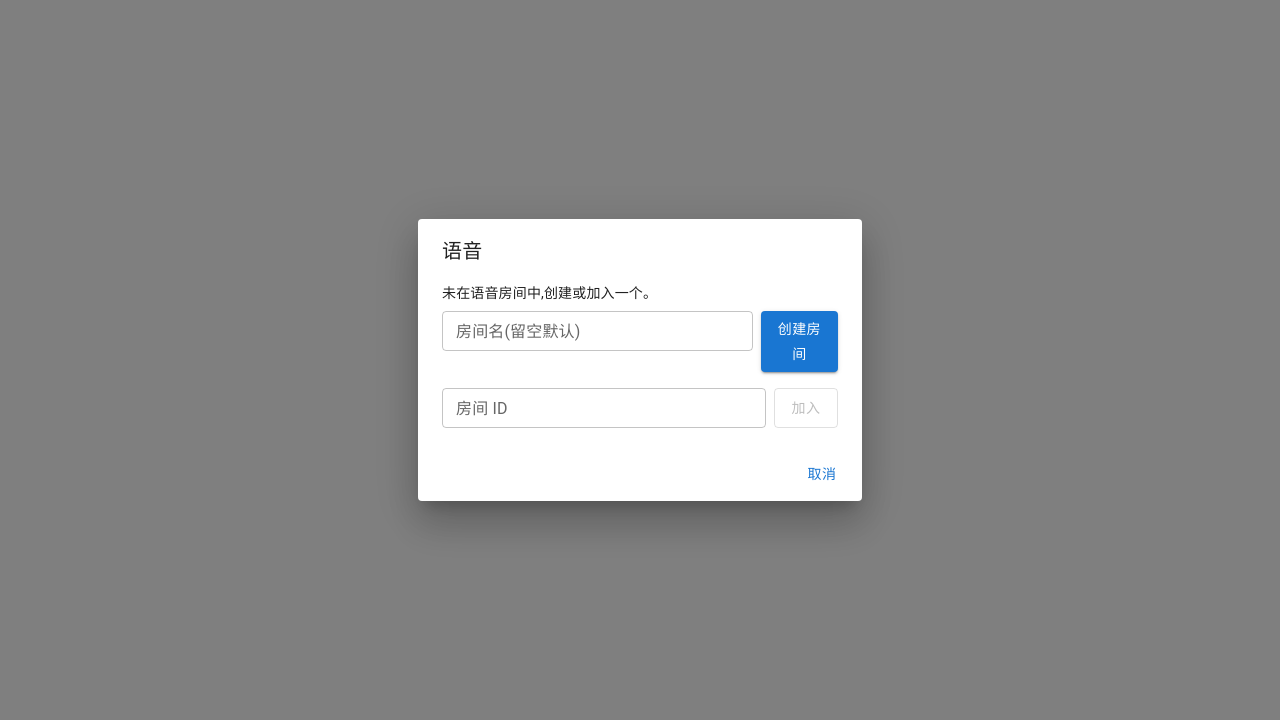
Test: VoiceDialog › offers create/join when roomless and creates a room on demand
Expected: the text "未在语音房间中,创建或加入一个。" is shown, [442,285,657,301]
In the field labelled "房间名(留空默认)": [597, 331] box [442,311,753,351], type "crew"
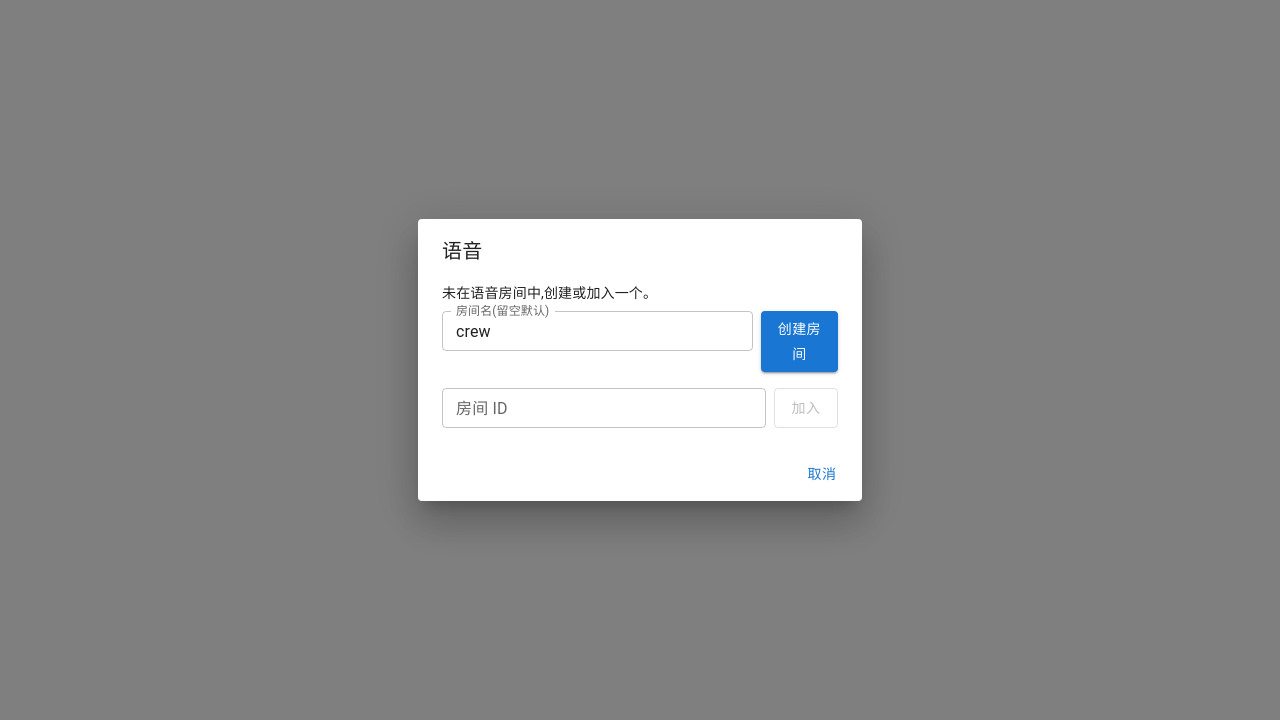
Click the button "创建房间": [799, 342] box [761,311,838,372]
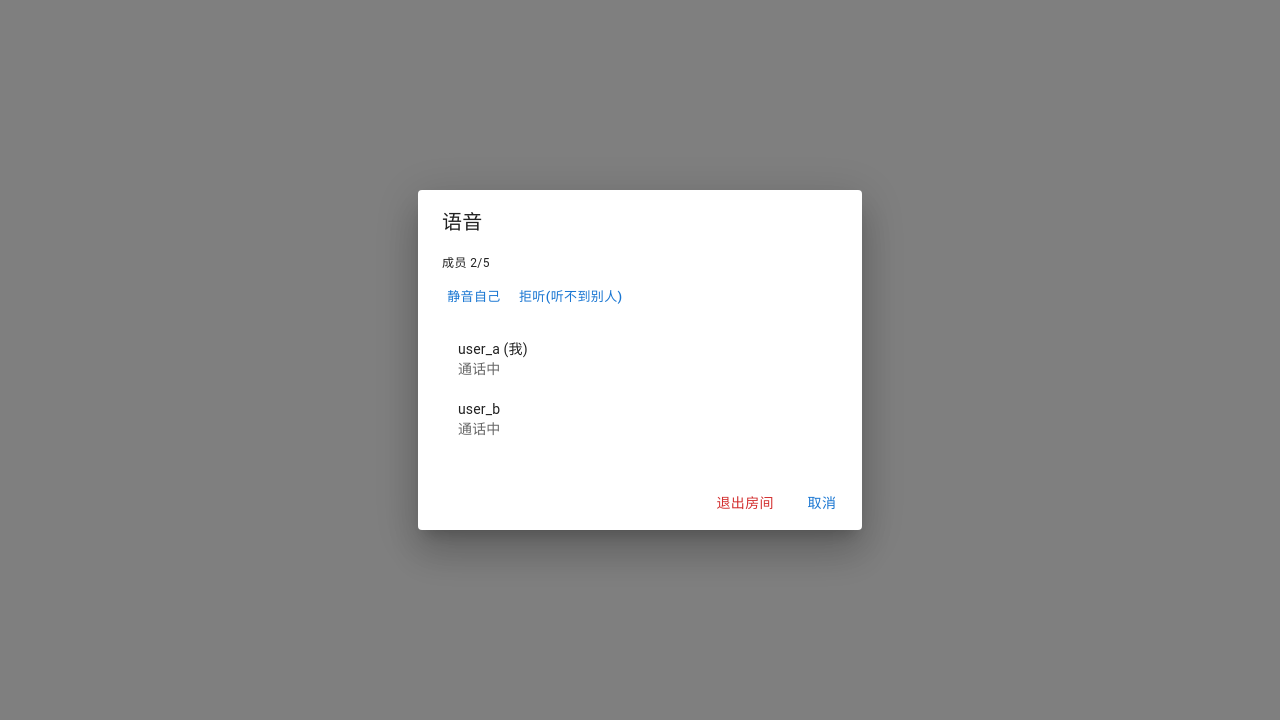
Expected: the text "user_b" is shown, [458,401,500,417]
